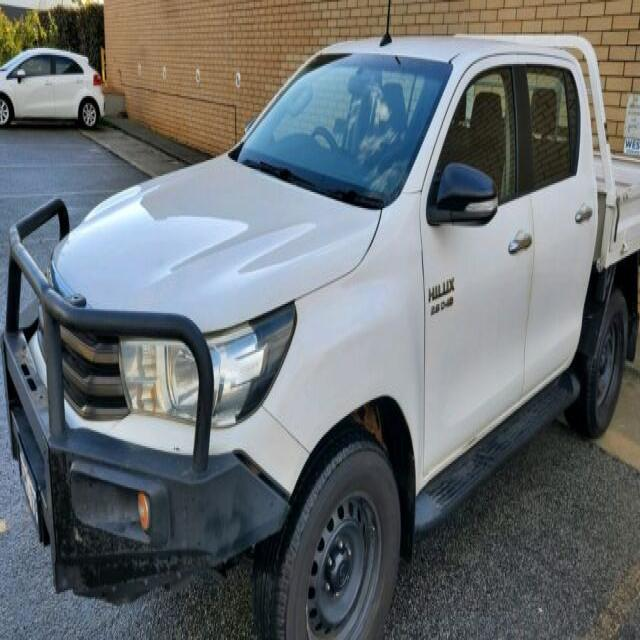light_vehicle: (8, 23, 639, 638)
